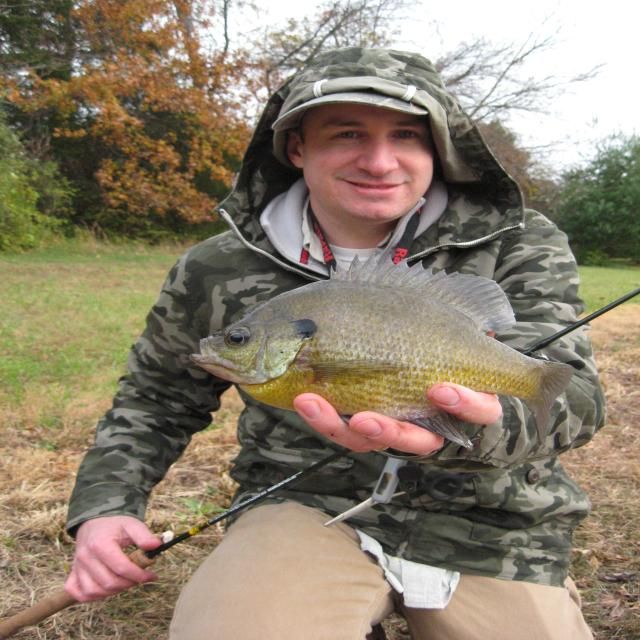Bluegill: (190, 256, 573, 449)
